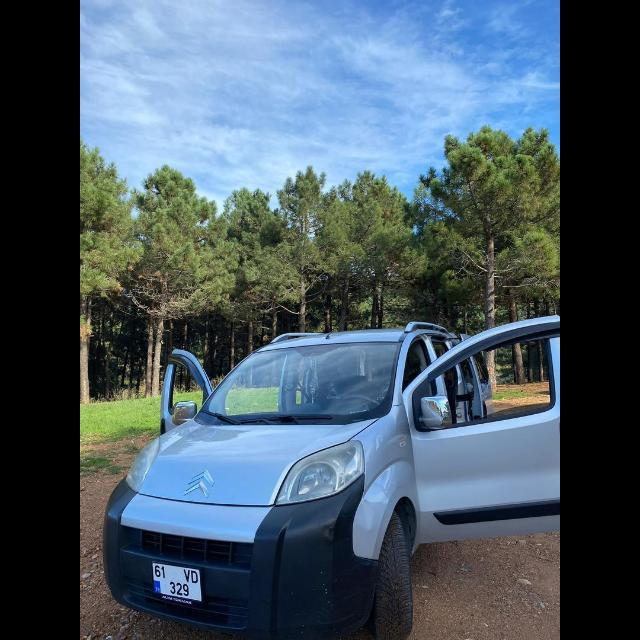Plaka: (154, 562, 200, 602)
